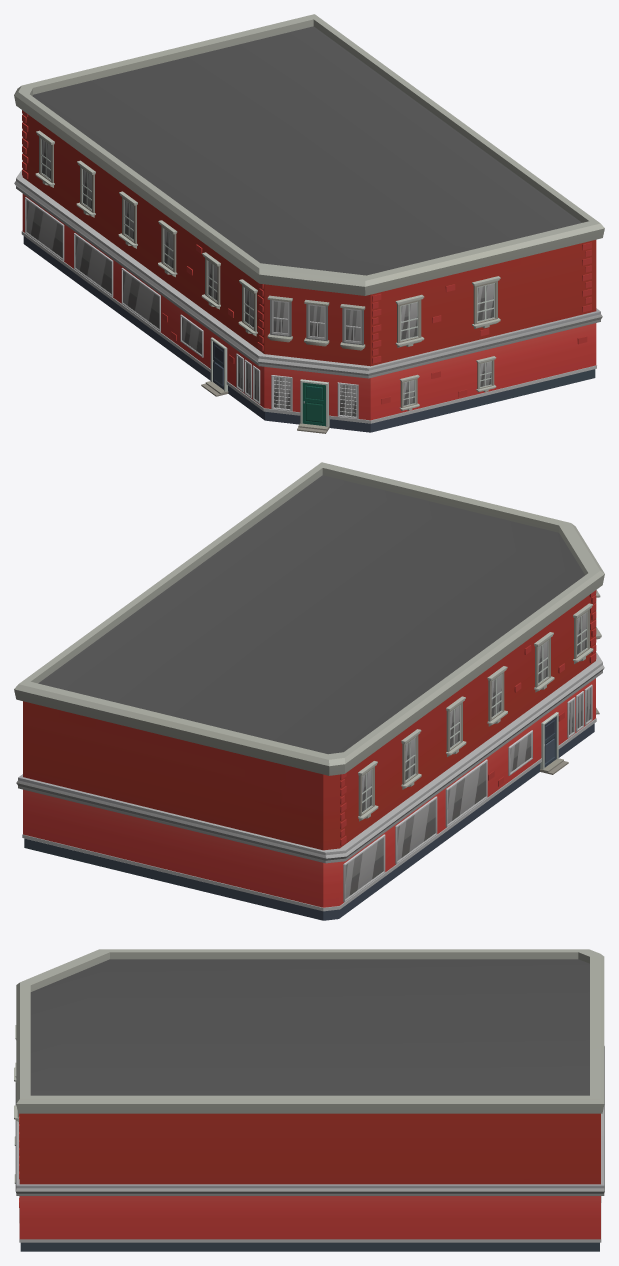
File: Building_25_11_A.fbx
3 renders of one model, top to bottom at view 1: azimuth 30°, elevation 25°; view 2: azimuth 150°, elevation 25°; view 3: azimuth 270°, elevation 25°, orthographic. The views are drawn at different scales.
Parts seen in each view (by area): view 1: Building_25_11_A; view 2: Building_25_11_A; view 3: Building_25_11_A.
Boxes of the visible parts, x1,y1,x2,y2 form: Building_25_11_A: (14, 14, 604, 433); Building_25_11_A: (14, 462, 604, 920); Building_25_11_A: (14, 949, 604, 1251).
Bounding box in the file's own units: 1683 × 793 × 2729.
